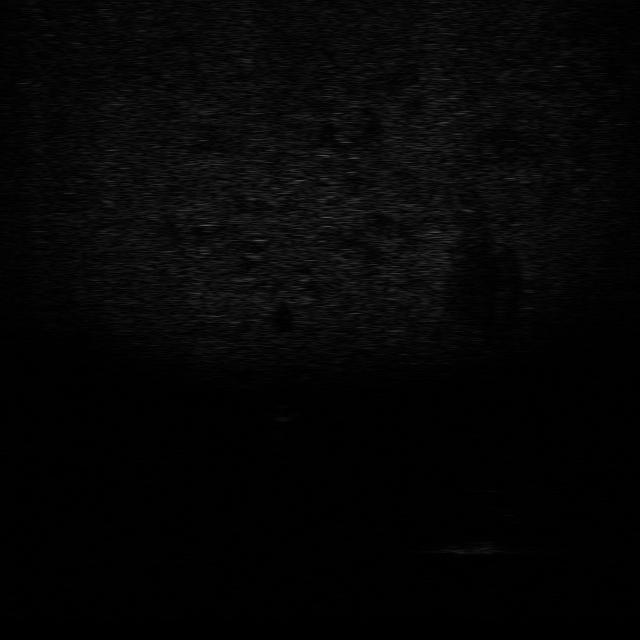ball: (262, 400, 302, 423)
metal bucket: (432, 533, 500, 560)
tyre: (475, 483, 536, 519)
